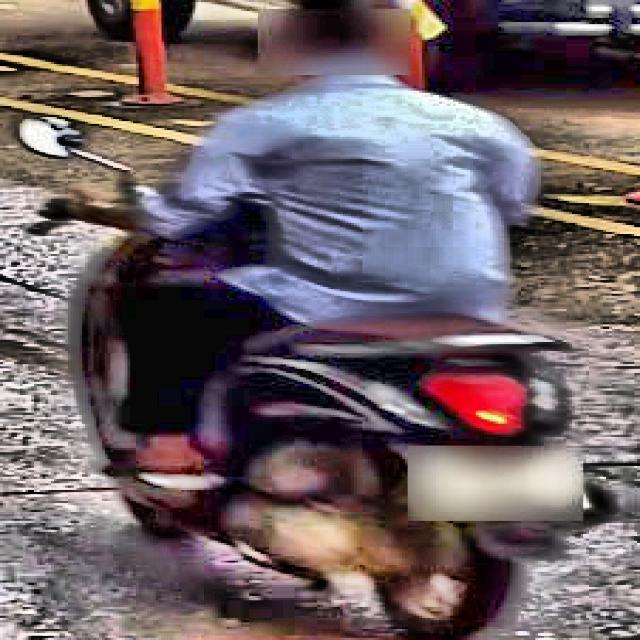motorcycle: (0, 104, 616, 636)
